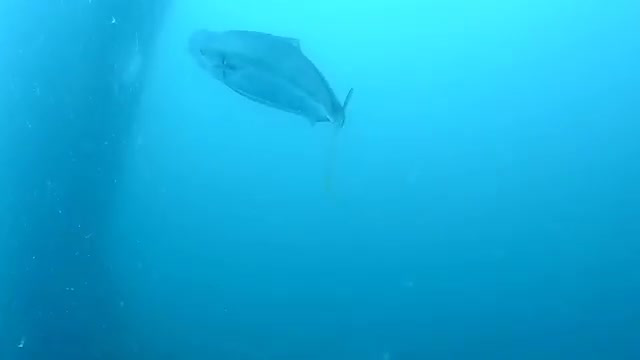smallfish: (188, 26, 364, 140)
